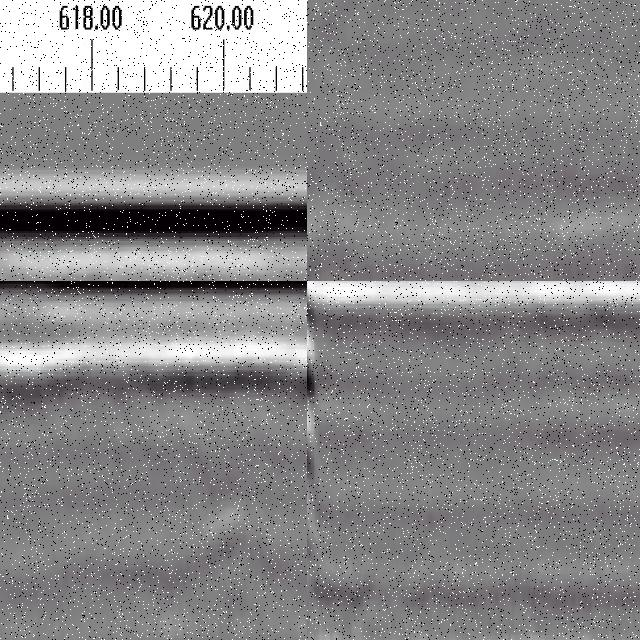crack: (308, 282, 331, 592)
